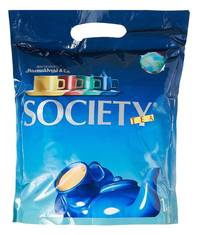society: (11, 35, 180, 225)
